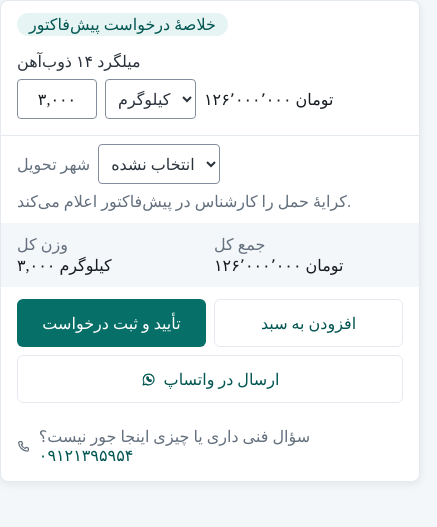
Scenario: ProformaCard — editing › says so, without losing the card, when an edit fails
Replace the text in the field named "مقدار میلگرد" with "4000" at (57, 99), box [17,79,97,119]
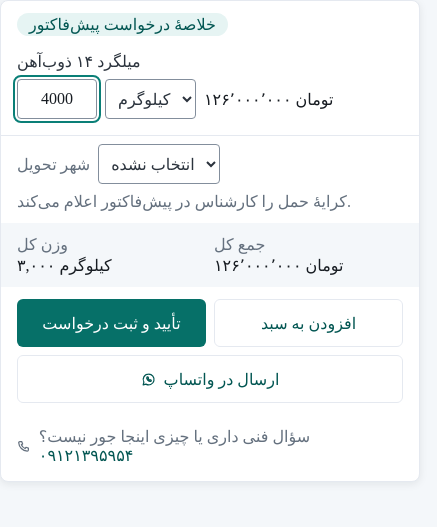
Press Tab
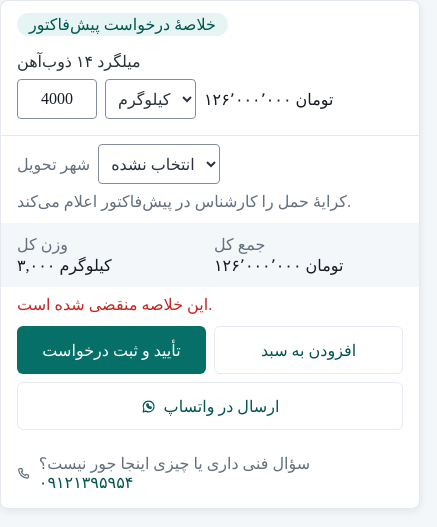
Expected: the button "تأیید و ثبت درخواست" is shown, [17,326,206,374]
Result: the message reads "این خلاصه منقضی شده است." at [17,296,212,313]
